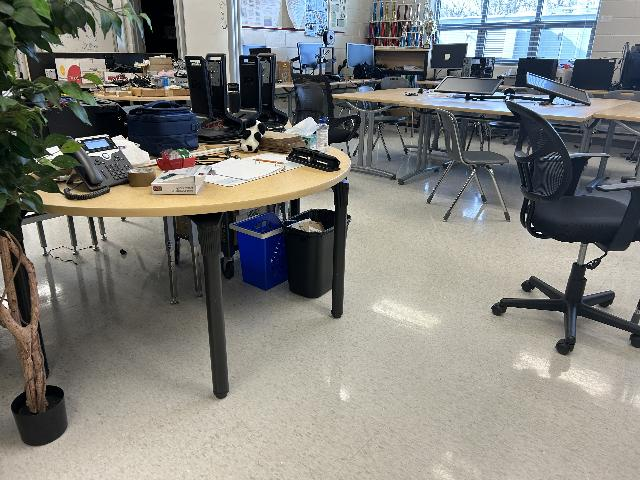panda_plushie: (240, 118, 266, 154)
